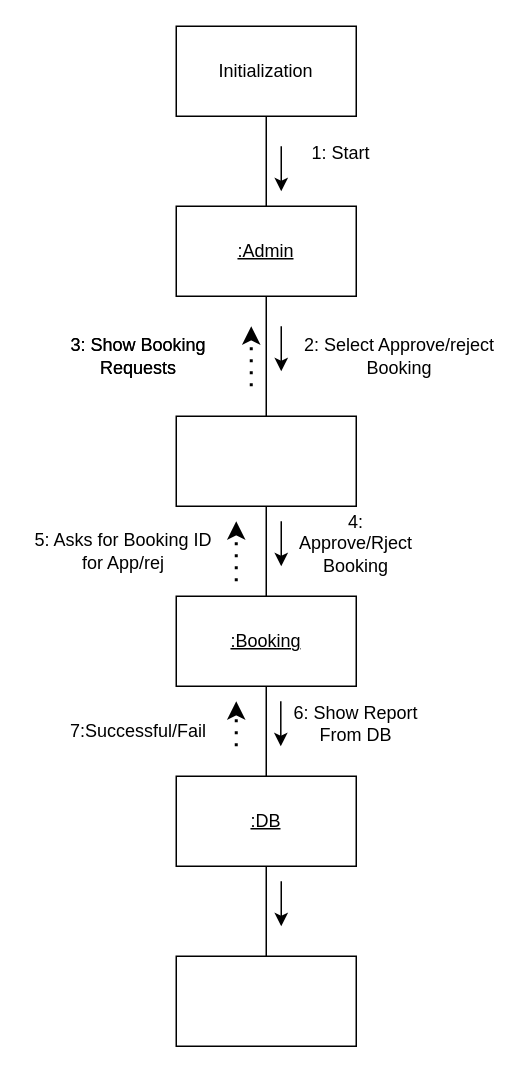
Some shapes in this 522 by 1073 pixel diagram are drawn without their labels. The shapes that lost their labels are listed below. From the top down, each one's centre as x and y in pixels, then its label:
(265,460): : System
(265,1000): End
